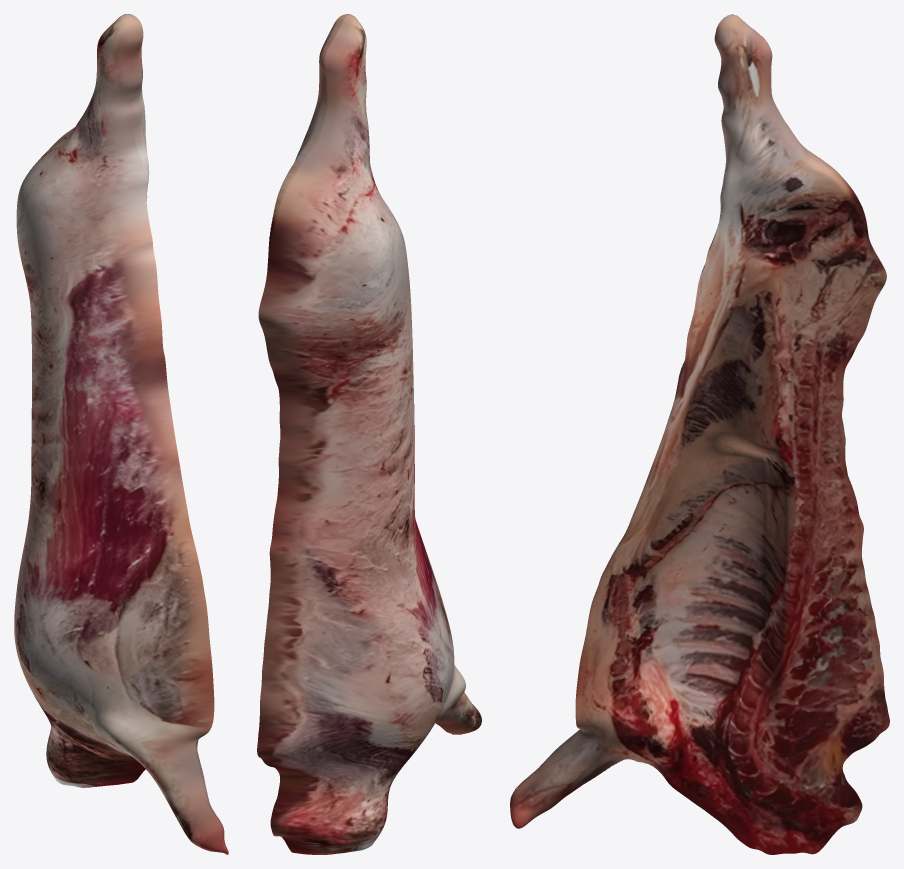
Rendered from demi_carcasse_boeuf_v11.glb.
3 views of the same model, side by side, from view 1: azimuth 30°, elevation 25°; view 2: azimuth 150°, elevation 25°; view 3: azimuth 270°, elevation 25° (orthographic). The views are drawn at different scales.
Parts seen in each view (by area): view 1: face_exterieure, face_de_fente; view 2: face_exterieure, face_de_fente; view 3: face_de_fente, face_exterieure.
Boxes of the visible parts, bbox=[...] form: face_exterieure: bbox=[14, 14, 228, 854]; face_de_fente: bbox=[126, 14, 228, 853]; face_exterieure: bbox=[257, 14, 481, 854]; face_de_fente: bbox=[268, 14, 452, 734]; face_de_fente: bbox=[510, 15, 889, 854]; face_exterieure: bbox=[513, 14, 882, 792].
Bounding box in the file's own units: 0.4164 × 2.5 × 1.03.
2 materials, 2 textured.
